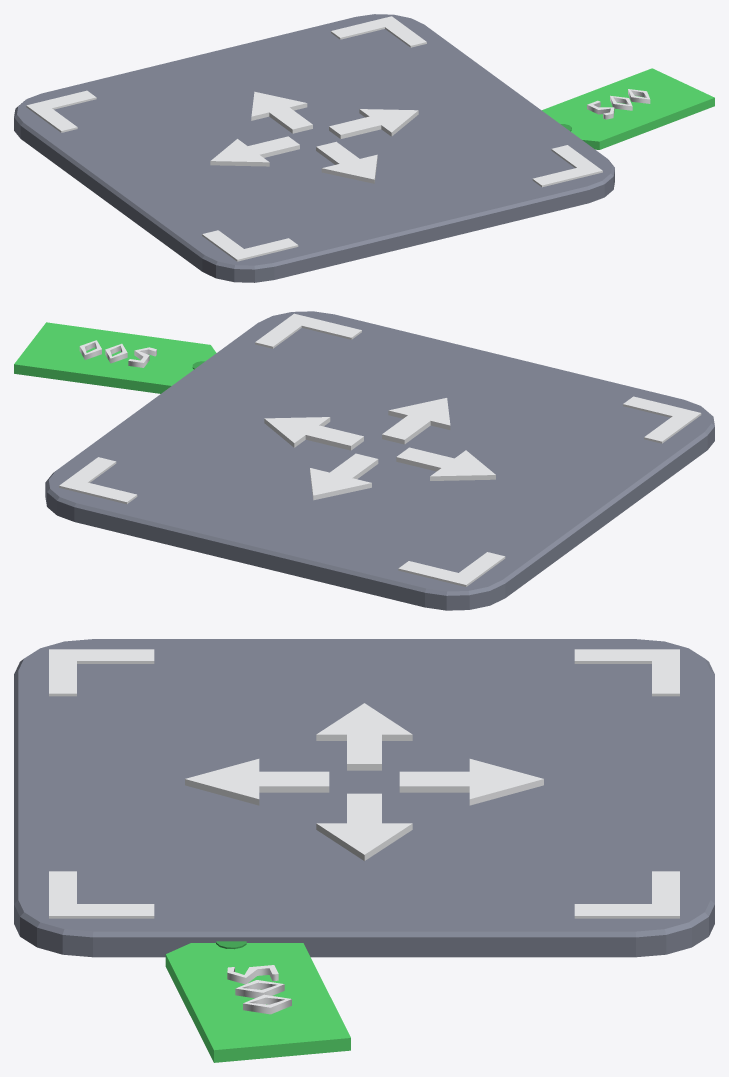
Rendered from Icon_Pad_Expand.glb.
The picture shows the model from 3 angles, top to bottom: view 1: azimuth 30°, elevation 25°; view 2: azimuth 150°, elevation 25°; view 3: azimuth 270°, elevation 25°; orthographic projection. The views are drawn at different scales.
Visible parts, largest first — view 1: Icon_Pad_Expand_Base, Icon_Pad_Expand_PriceTag, Icon_Pad_Expand_Pictogram, Icon_Pad_Expand_Corner_Brackets, Icon_Pad_Expand_PriceText; view 2: Icon_Pad_Expand_Base, Icon_Pad_Expand_PriceTag, Icon_Pad_Expand_Pictogram, Icon_Pad_Expand_Corner_Brackets, Icon_Pad_Expand_PriceText; view 3: Icon_Pad_Expand_Base, Icon_Pad_Expand_PriceTag, Icon_Pad_Expand_Pictogram, Icon_Pad_Expand_Corner_Brackets, Icon_Pad_Expand_PriceText.
Boxes of the visible parts, left/top/right/bottom form: Icon_Pad_Expand_Base: left=14, top=14, right=614, bottom=282; Icon_Pad_Expand_PriceTag: left=542, top=68, right=714, bottom=149; Icon_Pad_Expand_Pictogram: left=210, top=91, right=418, bottom=183; Icon_Pad_Expand_Corner_Brackets: left=26, top=16, right=602, bottom=261; Icon_Pad_Expand_PriceText: left=587, top=89, right=650, bottom=119; Icon_Pad_Expand_Base: left=45, top=311, right=714, bottom=610; Icon_Pad_Expand_PriceTag: left=14, top=322, right=216, bottom=393; Icon_Pad_Expand_Pictogram: left=264, top=398, right=495, bottom=500; Icon_Pad_Expand_Corner_Brackets: left=59, top=313, right=701, bottom=586; Icon_Pad_Expand_PriceText: left=79, top=340, right=156, bottom=367; Icon_Pad_Expand_Base: left=14, top=639, right=714, bottom=957; Icon_Pad_Expand_PriceTag: left=165, top=941, right=350, bottom=1062; Icon_Pad_Expand_Pictogram: left=185, top=703, right=543, bottom=860; Icon_Pad_Expand_Corner_Brackets: left=49, top=649, right=679, bottom=918; Icon_Pad_Expand_PriceText: left=227, top=965, right=291, bottom=1014.
Size of the model in its own units: 1.09 by 0.038 by 0.8.
